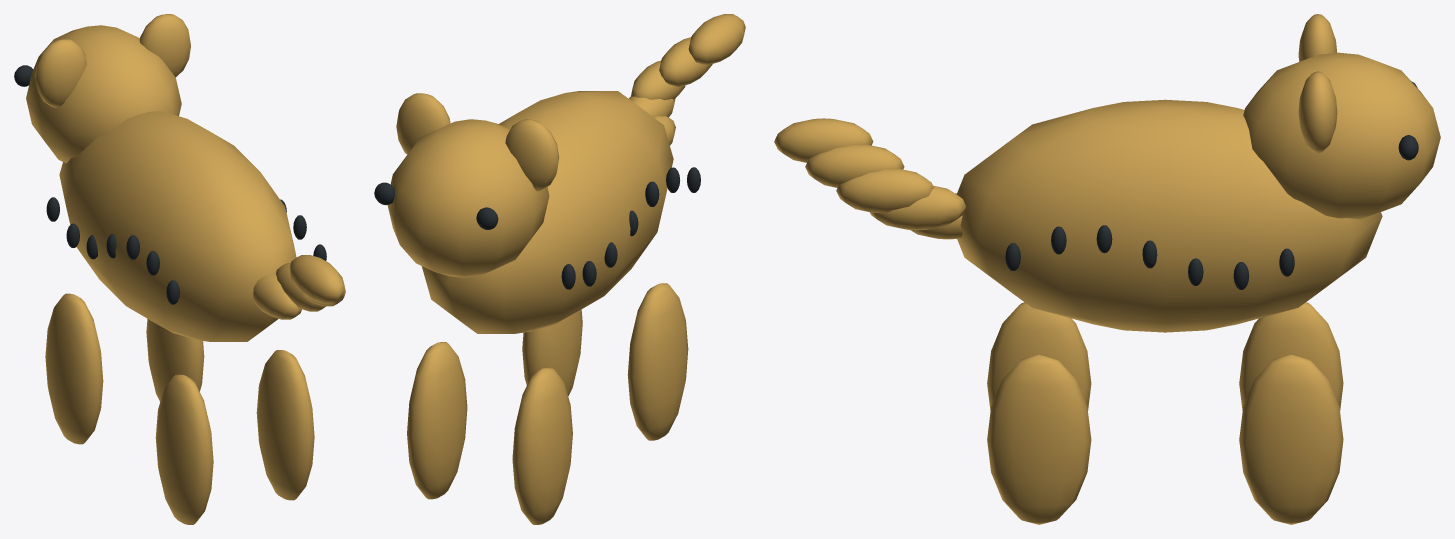
Rendered from animal_jaguar.glb.
3 views of the same model, side by side, from view 1: azimuth 30°, elevation 25°; view 2: azimuth 150°, elevation 25°; view 3: azimuth 270°, elevation 25° (orthographic). The views are drawn at different scales.
Visible parts, largest first — view 1: Body, LegFL, LegBR, LegBL, LegFR; view 2: Body, LegBL, LegFL, LegFR, LegBR; view 3: Body, LegFR, LegBR, LegFL, LegBL.
Part boxes in pixels (left/top/right/bottom): Body: left=14, top=14, right=345, bottom=341; LegFL: left=45, top=293, right=103, bottom=444; LegBR: left=256, top=350, right=314, bottom=500; LegBL: left=155, top=374, right=213, bottom=524; LegFR: left=146, top=319, right=204, bottom=401; Body: left=374, top=14, right=745, bottom=333; LegBL: left=627, top=283, right=688, bottom=440; LegFL: left=512, top=367, right=572, bottom=524; LegFR: left=407, top=342, right=467, bottom=499; LegBR: left=522, top=309, right=582, bottom=395; Body: left=774, top=14, right=1440, bottom=332; LegFR: left=1239, top=354, right=1343, bottom=524; LegBR: left=987, top=354, right=1091, bottom=524; LegFL: left=1239, top=302, right=1343, bottom=410; LegBL: left=987, top=302, right=1091, bottom=410.
Size of the model in its own units: 0.674 by 1.61 by 2.15.
